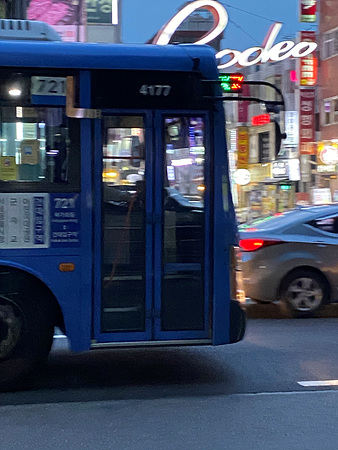entrance: (94, 106, 216, 349)
